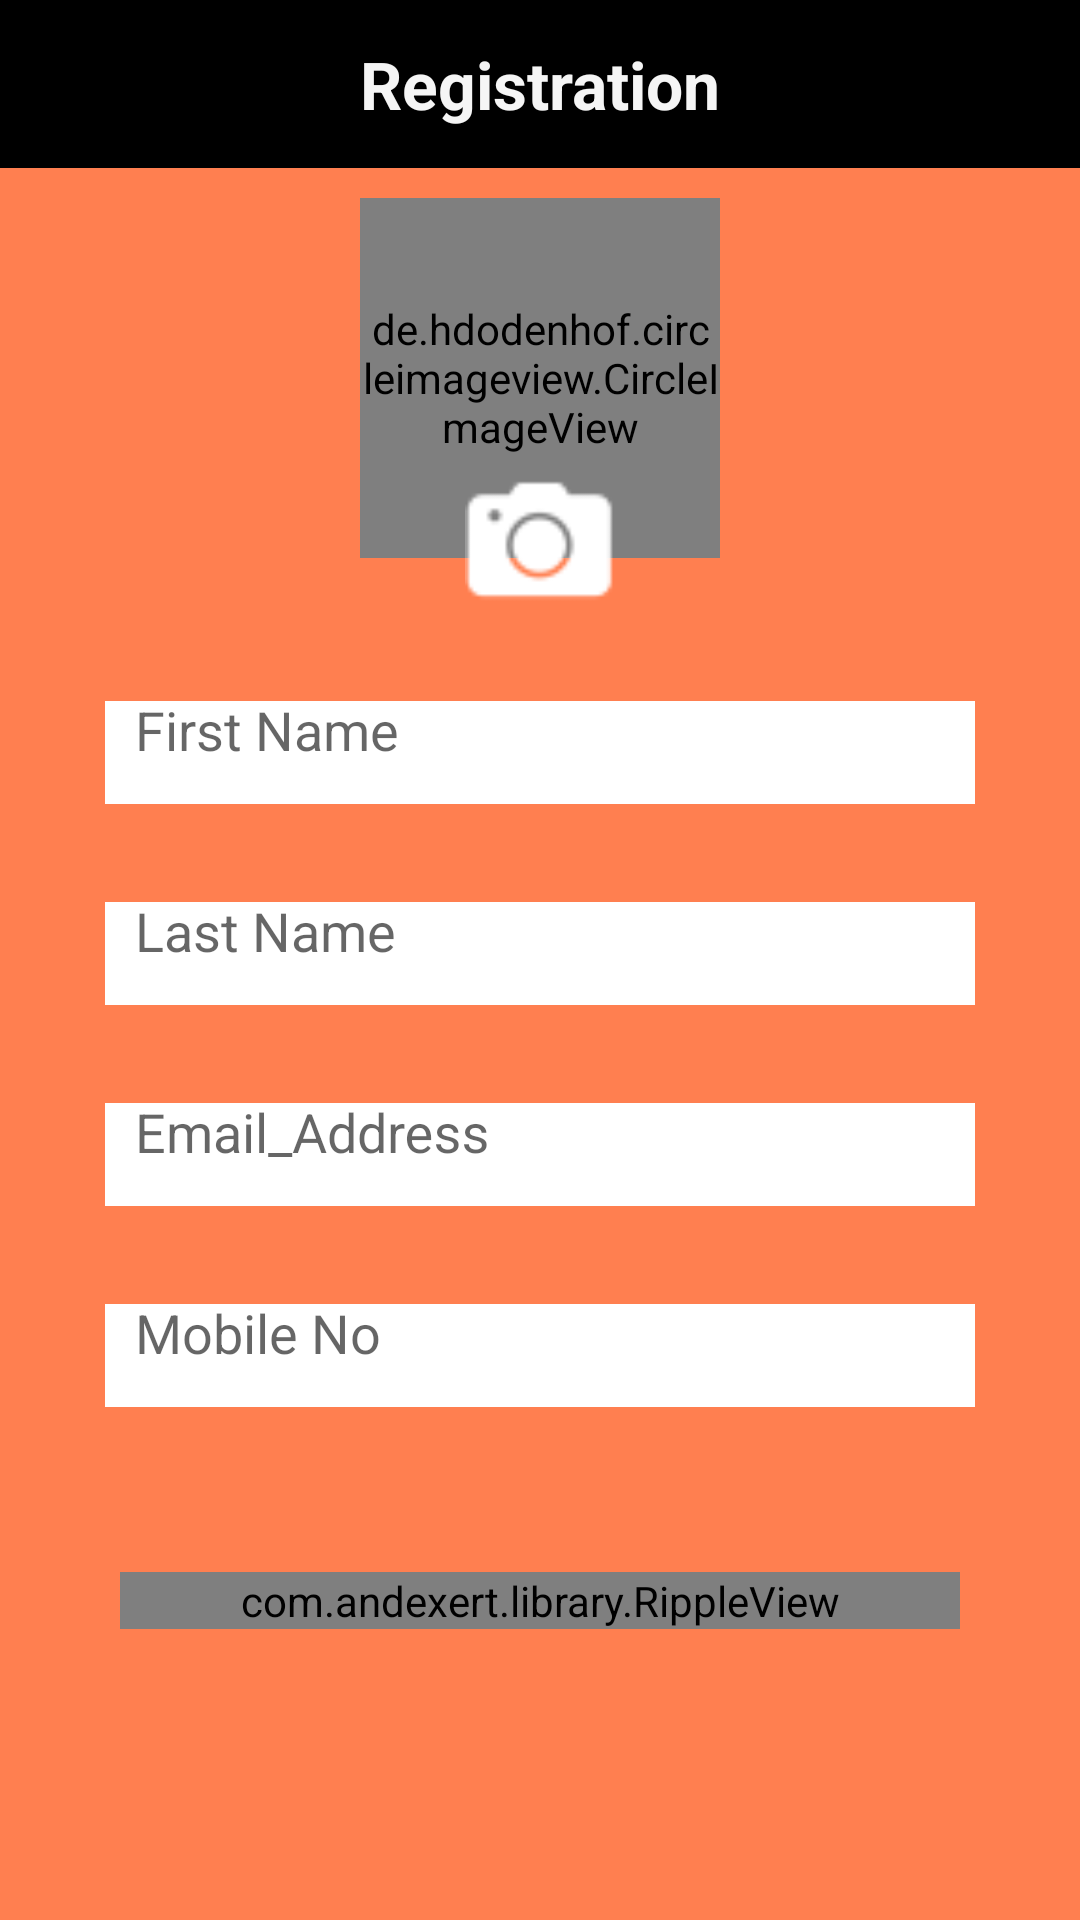

Where to tap for icons on this 1080 × 1920 app screen, as point (x, y):
camera: point (540, 543)
